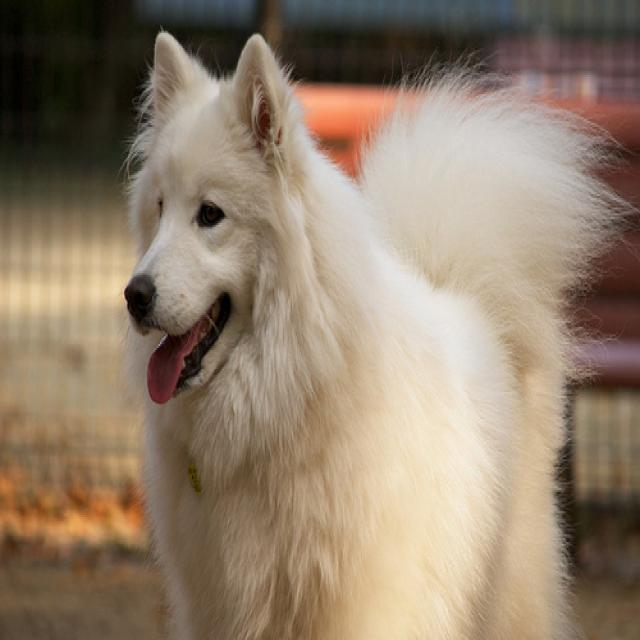dog-samoyed: (108, 21, 637, 636)
